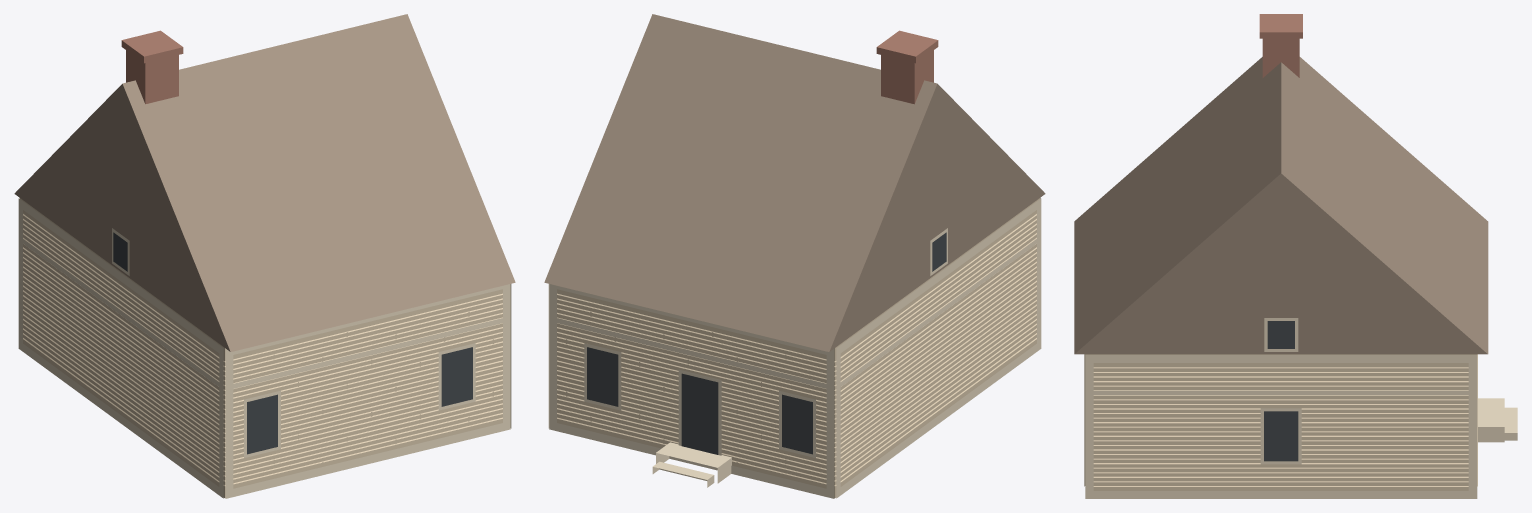
The model's file is recon_1835_south_d6_020__inferred_1835.glb.
The picture shows the model from 3 angles, left to right: view 1: azimuth 30°, elevation 25°; view 2: azimuth 150°, elevation 25°; view 3: azimuth 270°, elevation 25°; orthographic projection. The views are drawn at different scales.
Parts seen in each view (by area): view 1: recon_1835_south_d6_020__inferred_1835; view 2: recon_1835_south_d6_020__inferred_1835; view 3: recon_1835_south_d6_020__inferred_1835.
Boxes of the visible parts, left/top/right/bottom form: recon_1835_south_d6_020__inferred_1835: left=14, top=14, right=515, bottom=498; recon_1835_south_d6_020__inferred_1835: left=544, top=14, right=1045, bottom=498; recon_1835_south_d6_020__inferred_1835: left=1074, top=14, right=1517, bottom=498.
Size of the model in its own units: 7.23 by 8.91 by 10.06.
